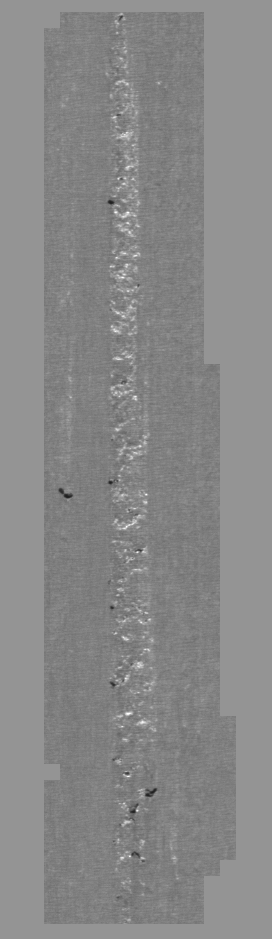oxl: (35, 10, 237, 929)
